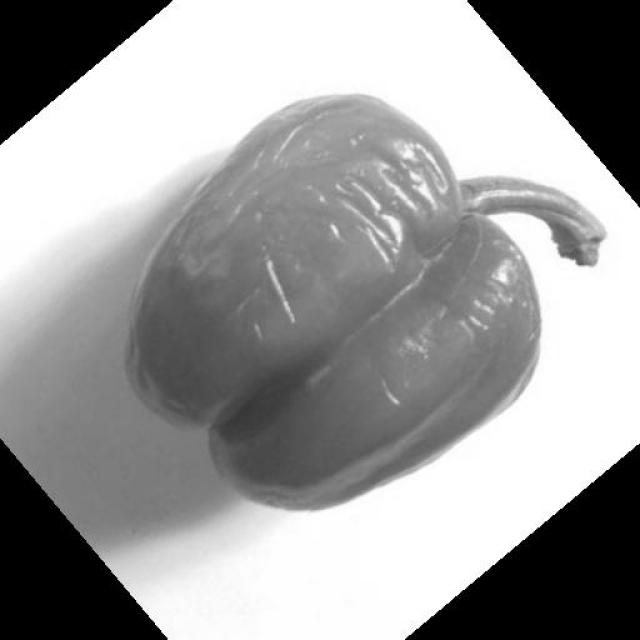Stale_Capsicum: (134, 110, 412, 475)
